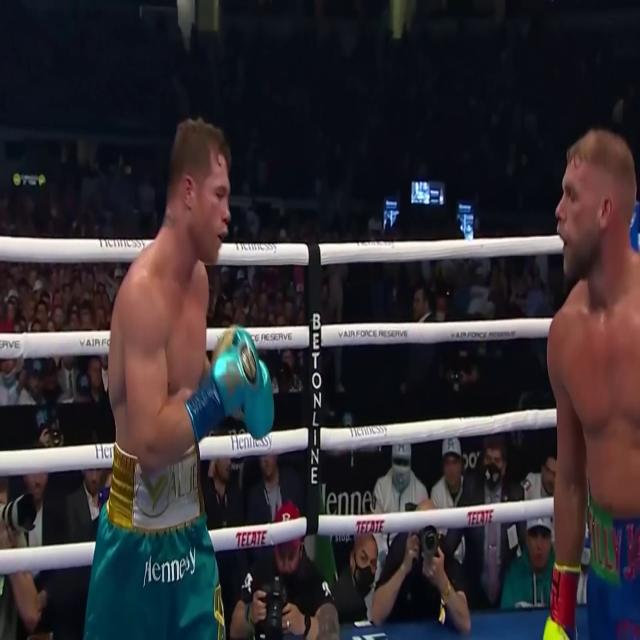boxer_1: (553, 129, 640, 519)
boxer_2: (106, 114, 232, 462)
gloves_1: (544, 562, 582, 640)
gloves_2: (186, 327, 274, 441)
